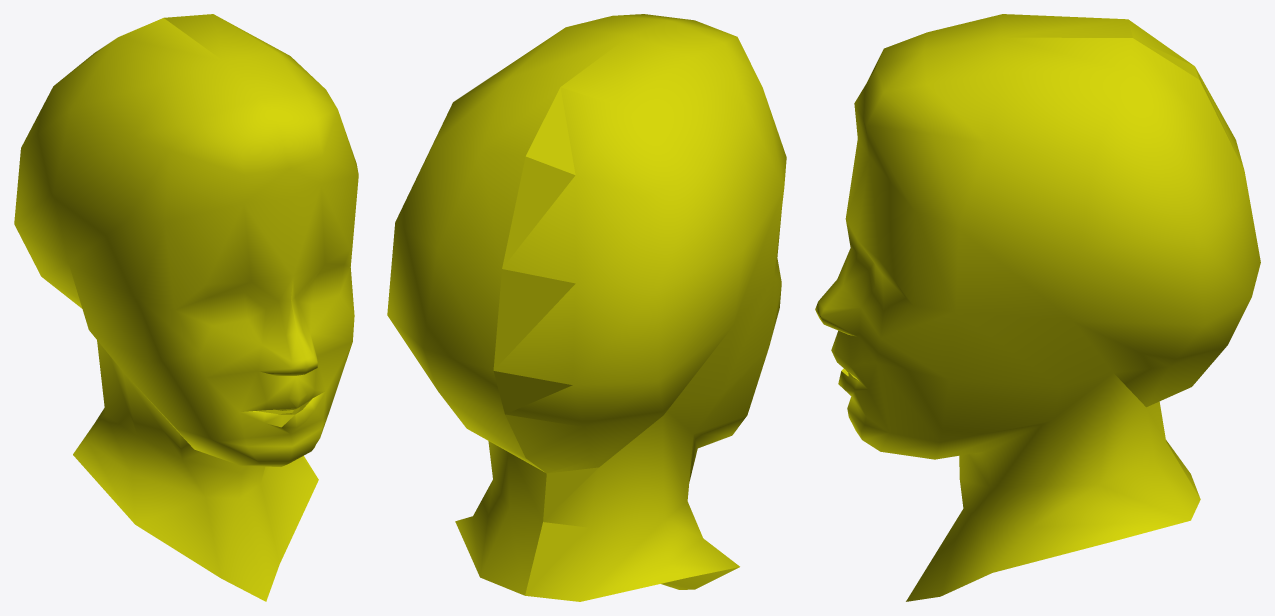
Rendered from head.obj.
The picture shows the model from 3 angles, left to right: view 1: azimuth 30°, elevation 25°; view 2: azimuth 150°, elevation 25°; view 3: azimuth 270°, elevation 25°; orthographic projection. The views are drawn at different scales.
Visible parts, largest first — view 1: head; view 2: head; view 3: head.
Part boxes in pixels (x1=…): head: x1=14, y1=14, x2=358, y2=601; head: x1=387, y1=14, x2=786, y2=601; head: x1=815, y1=14, x2=1260, y2=601.
Bounding box in the file's own units: 6.55 × 11.88 × 8.51.
